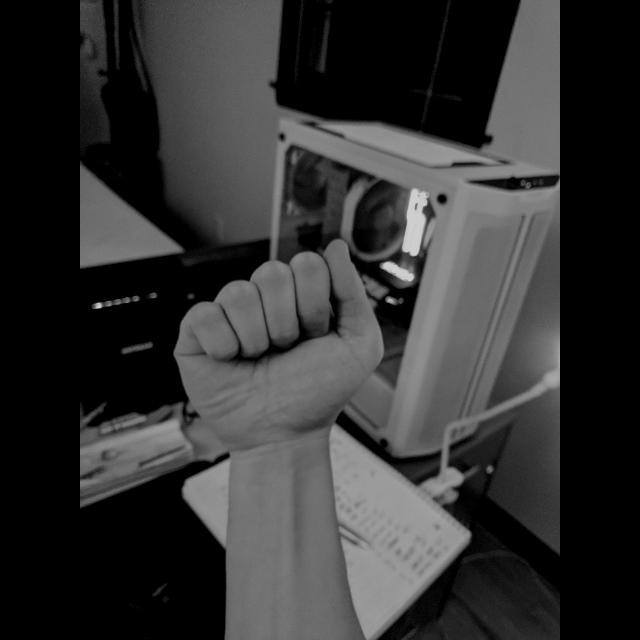A: (166, 235, 390, 452)
